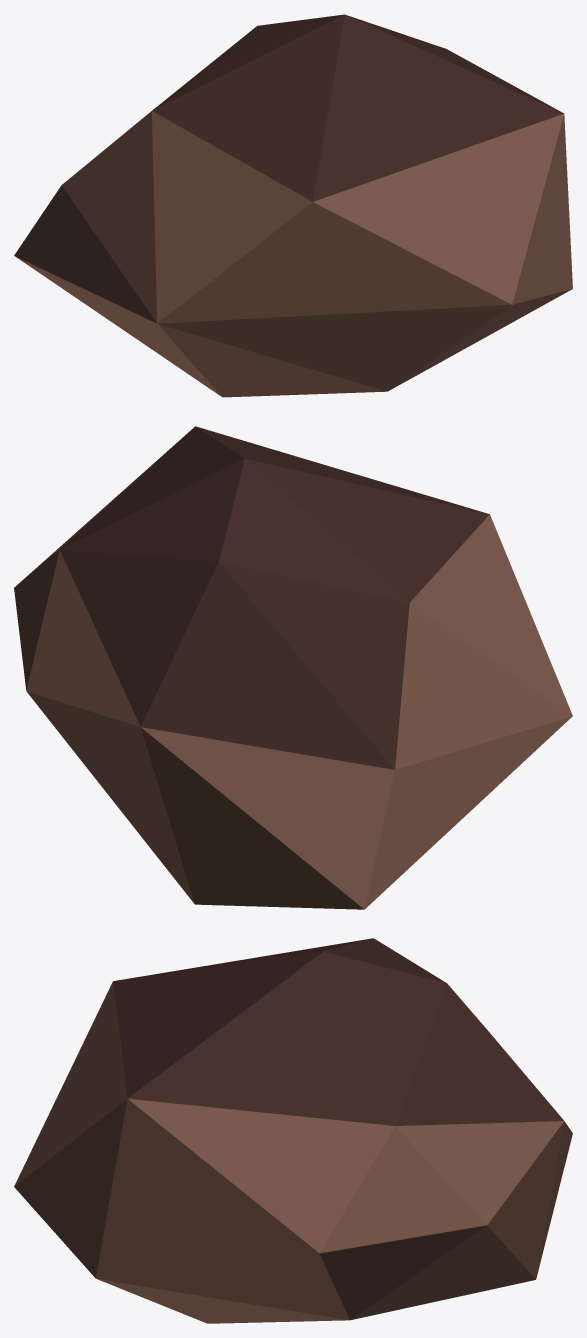
File: Brown_stone_003.fbx
The picture shows the model from 3 angles, top to bottom: view 1: azimuth 30°, elevation 25°; view 2: azimuth 150°, elevation 25°; view 3: azimuth 270°, elevation 25°; orthographic projection. The views are drawn at different scales.
Parts seen in each view (by area): view 1: Brown_stone_003; view 2: Brown_stone_003; view 3: Brown_stone_003.
Part boxes in pixels (<box>): Brown_stone_003: <box>14,14,572,397</box>; Brown_stone_003: <box>14,426,572,909</box>; Brown_stone_003: <box>14,938,572,1323</box>.
Bounding box in the file's own units: 98.34 × 94.64 × 75.99.
